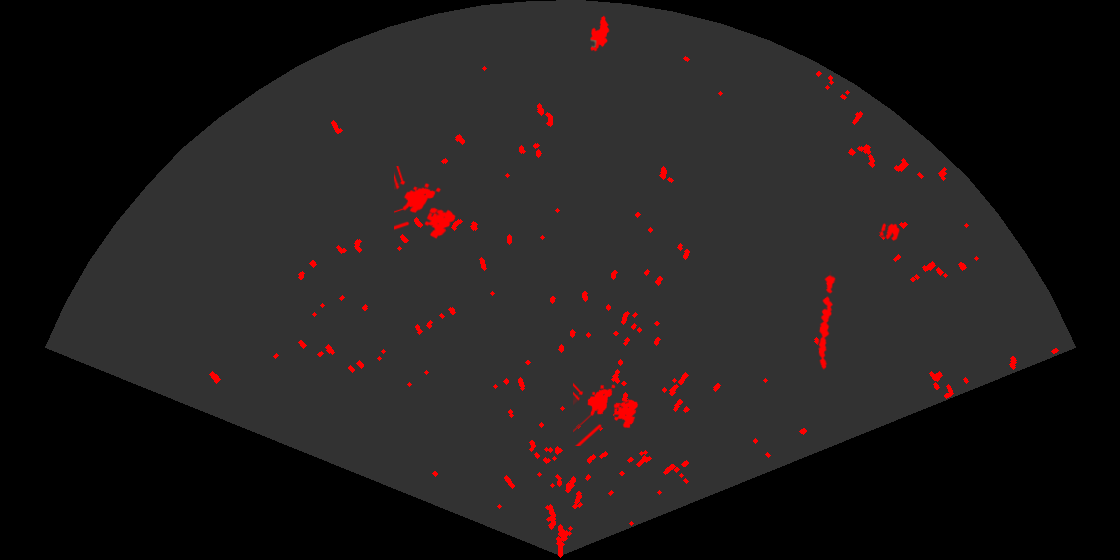AUV: (589, 14, 611, 53)
ball: (878, 221, 902, 243)
cage: (394, 166, 457, 241), (573, 381, 640, 446)
chain: (816, 271, 837, 370)
